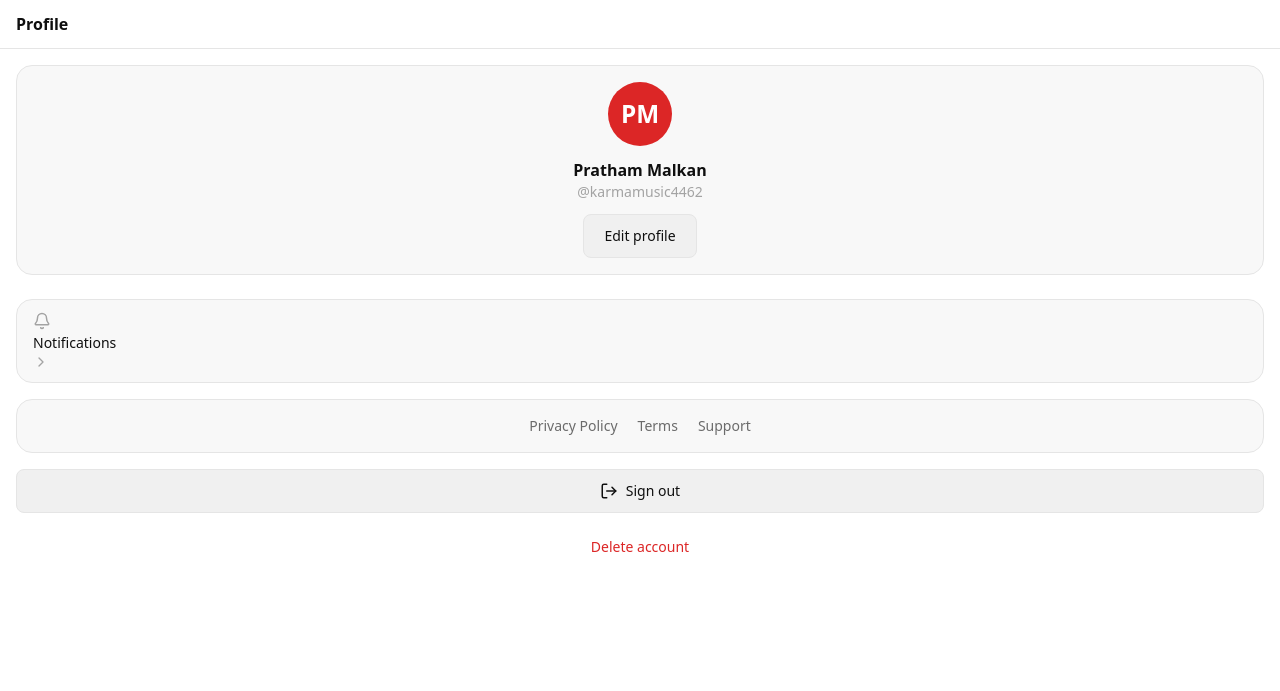
Scenario: ProfilePage › 6. Cancel button restores previous profile values and clears error state
The image size is (1280, 691).
Click the button "Edit profile" at coordinates (640, 236), box [583,214,697,258]
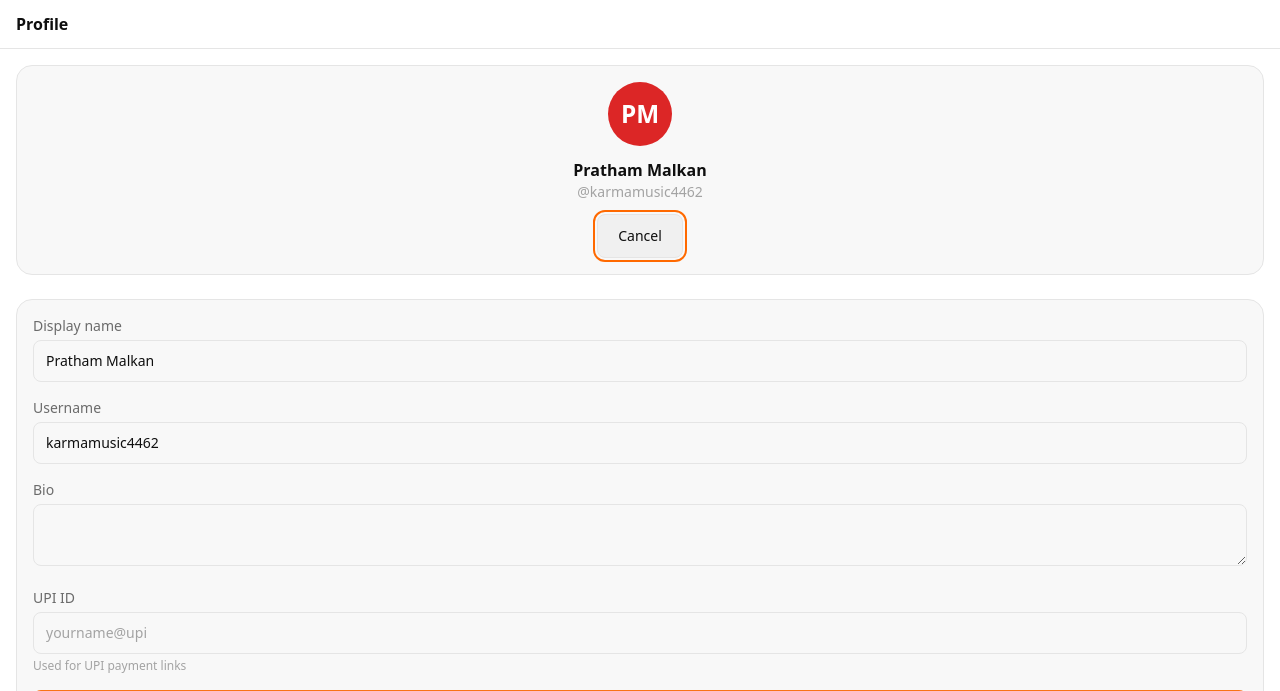
Replace the text in the field named "Username" with "new_unsaved_name" at coordinates (640, 443), box [33,422,1247,464]
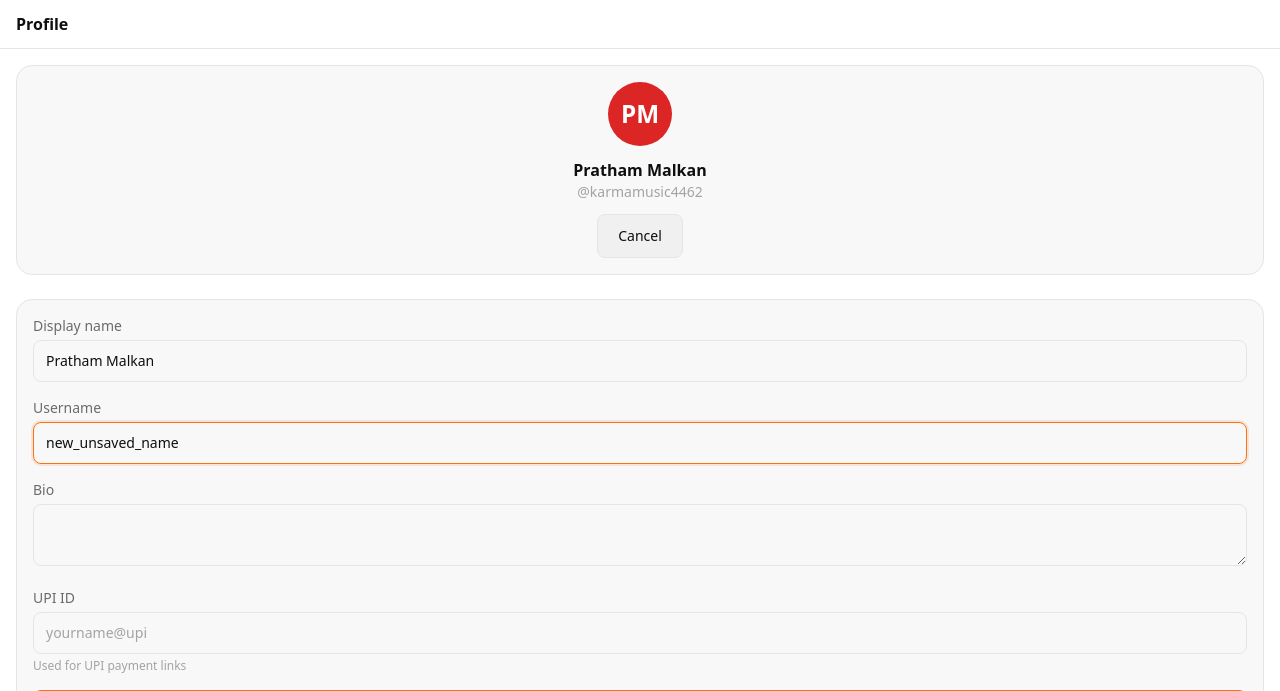
Click Cancel
Click the button "Cancel" at coordinates (640, 236), box [597,214,683,258]
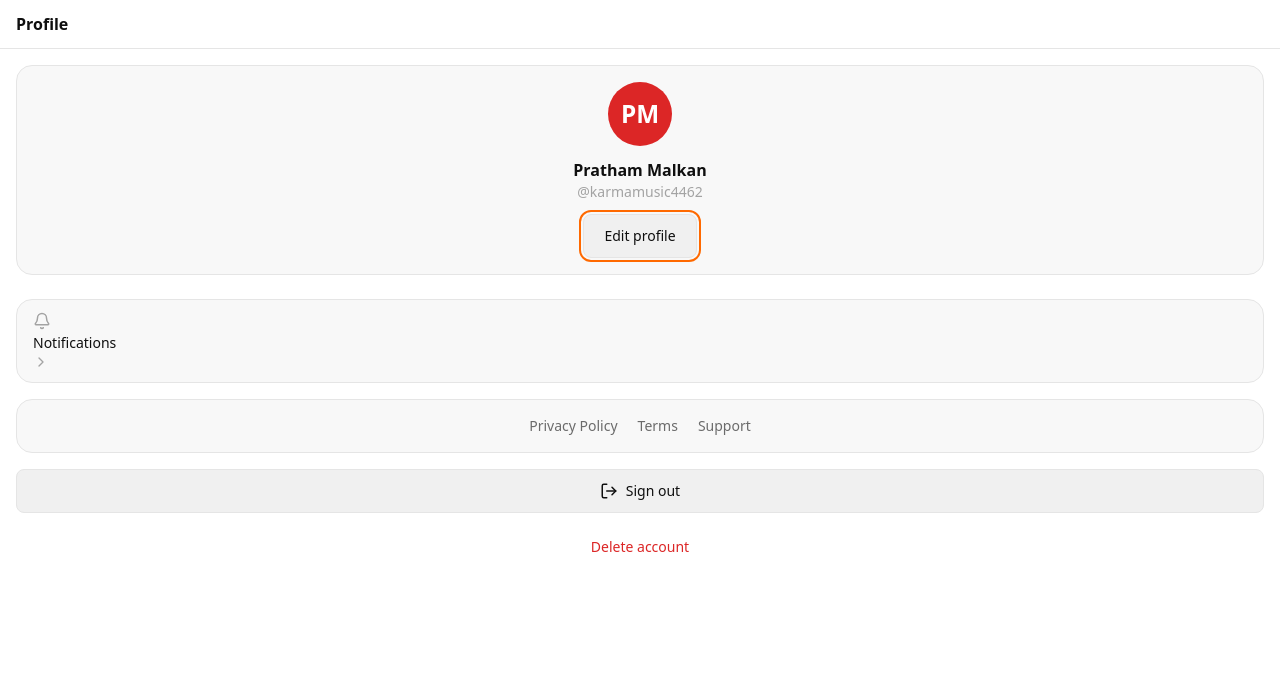
Re-enter edit mode: original value restored
Click the button "Edit profile" at coordinates (640, 236), box [583,214,697,258]
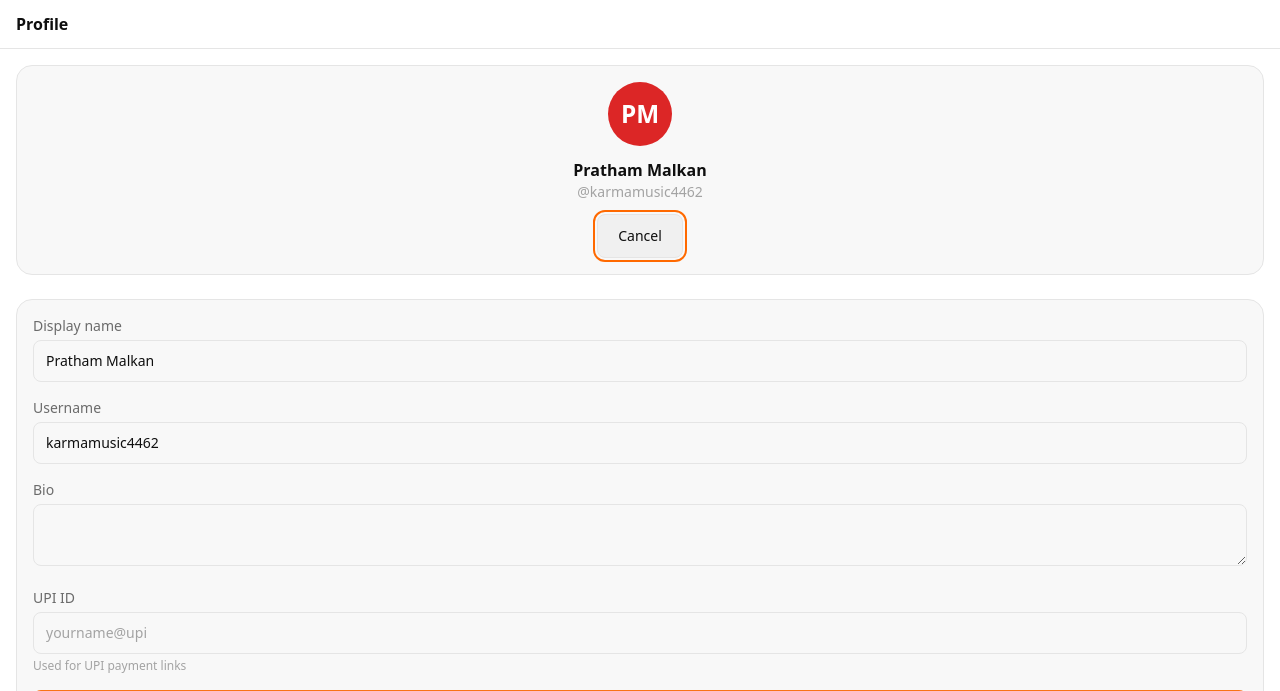
Expected: the field named "Username" holds "karmamusic4462", [33,422,1247,464]
